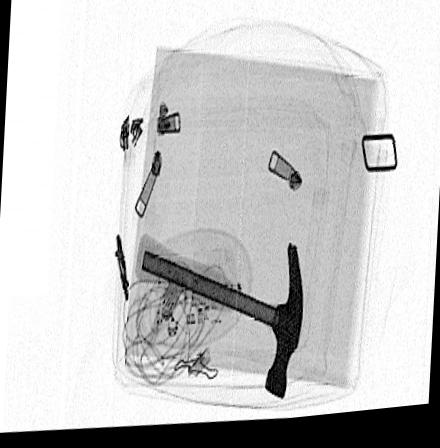Hammer: (135, 233, 304, 405)
